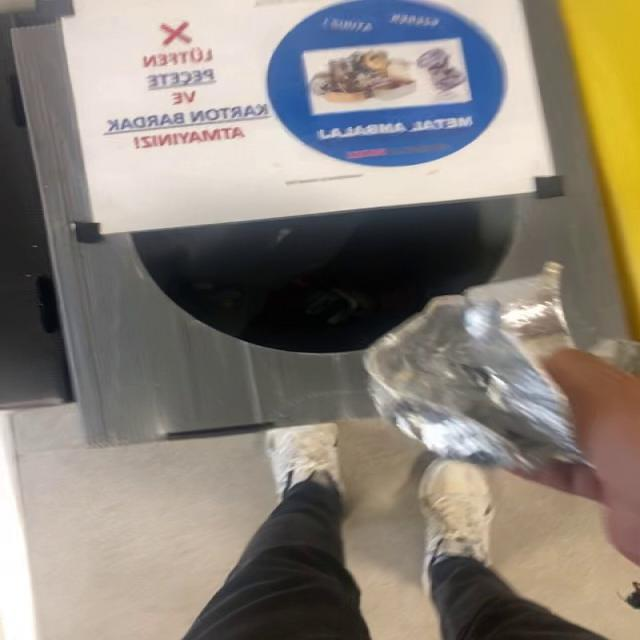bin: (11, 0, 628, 446)
metal: (364, 262, 587, 472)
